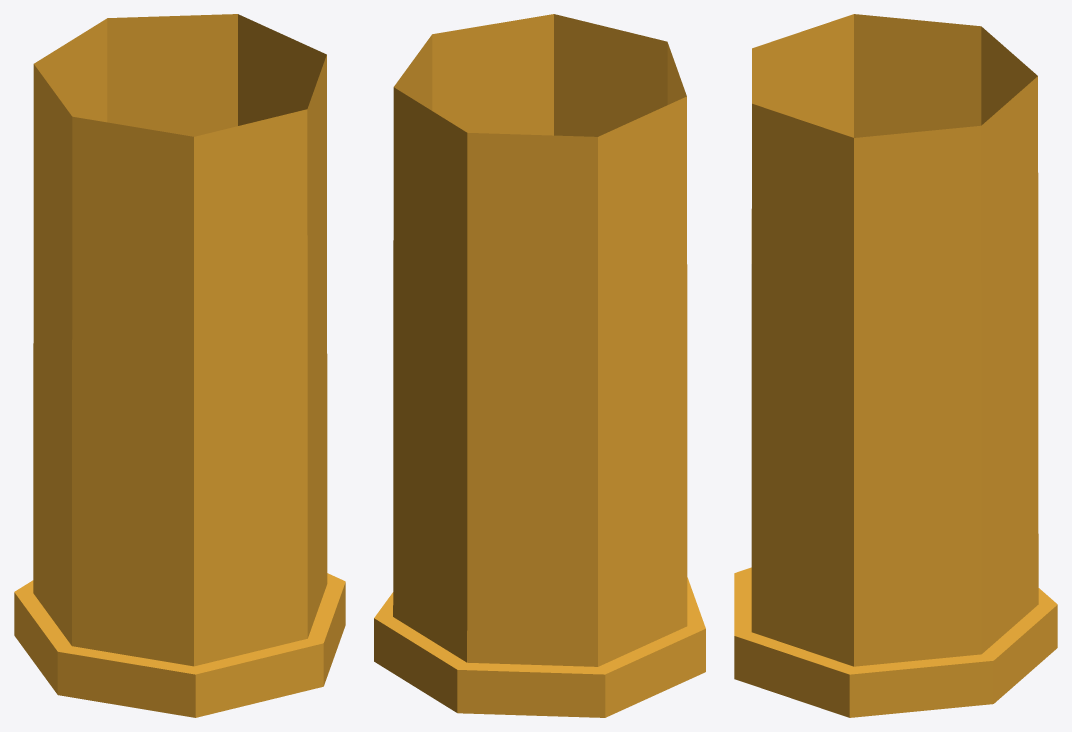
The picture shows the model from 3 angles, left to right: view 1: azimuth 30°, elevation 25°; view 2: azimuth 150°, elevation 25°; view 3: azimuth 270°, elevation 25°; orthographic projection.
Parts seen in each view (by area): view 1: Bullet; view 2: Bullet; view 3: Bullet.
Boxes of the visible parts, bbox=[...] form: Bullet: bbox=[14, 14, 345, 717]; Bullet: bbox=[374, 14, 705, 717]; Bullet: bbox=[734, 14, 1057, 717].
Bounding box in the file's own units: 20.93 × 39.77 × 20.4.
Materials: 1 (1 with a texture image).
